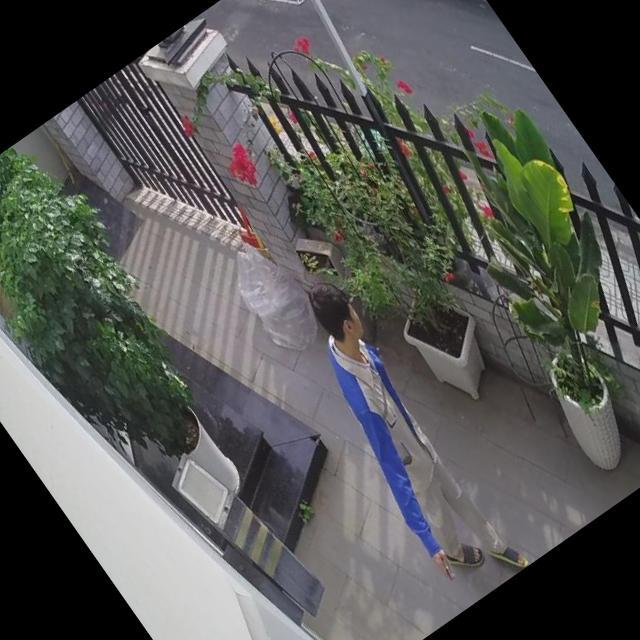person: (262, 271, 533, 608)
